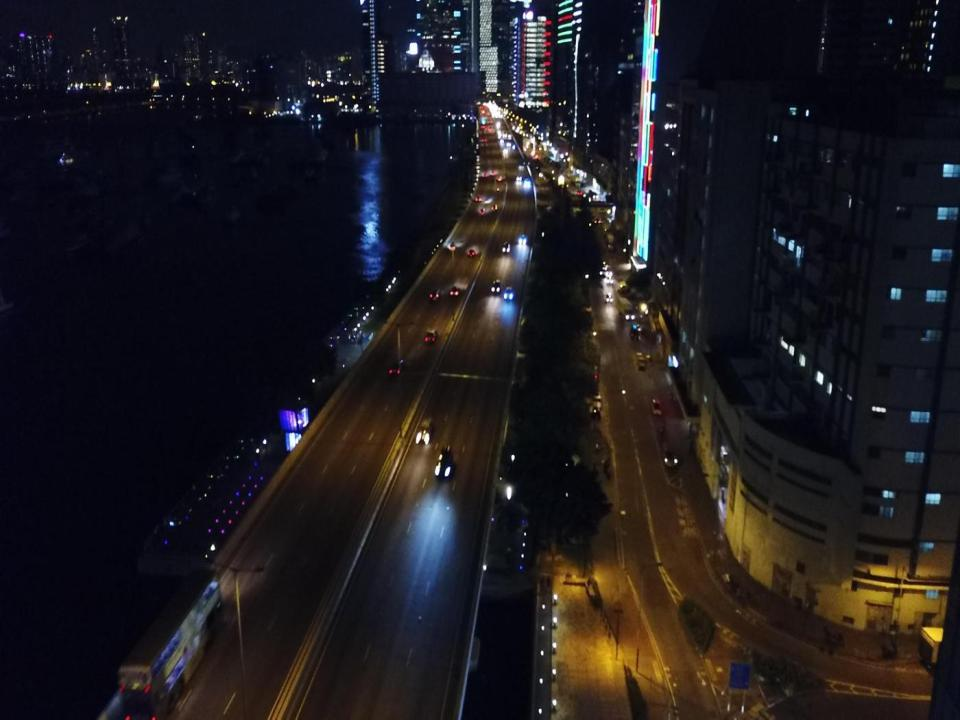bus: (116, 572, 224, 719)
car: (436, 446, 453, 480), (417, 419, 433, 443), (390, 358, 405, 376), (424, 330, 437, 343), (504, 285, 513, 300), (492, 279, 501, 292), (429, 290, 440, 300), (450, 285, 459, 296), (519, 235, 527, 244), (503, 242, 510, 252), (478, 207, 486, 215), (606, 275, 613, 284), (606, 292, 612, 302), (468, 248, 475, 256), (449, 243, 456, 250), (524, 178, 530, 186), (606, 270, 612, 278), (476, 195, 482, 202), (492, 205, 497, 212), (516, 175, 522, 180), (497, 176, 503, 181), (490, 169, 495, 175), (594, 217, 599, 223), (503, 148, 508, 153), (577, 191, 582, 196), (482, 172, 487, 175), (506, 142, 511, 145), (500, 139, 503, 142)
truck: (616, 298, 634, 320), (662, 441, 677, 466), (606, 234, 614, 252), (570, 174, 580, 187)
van: (652, 397, 661, 415), (630, 325, 638, 340)
